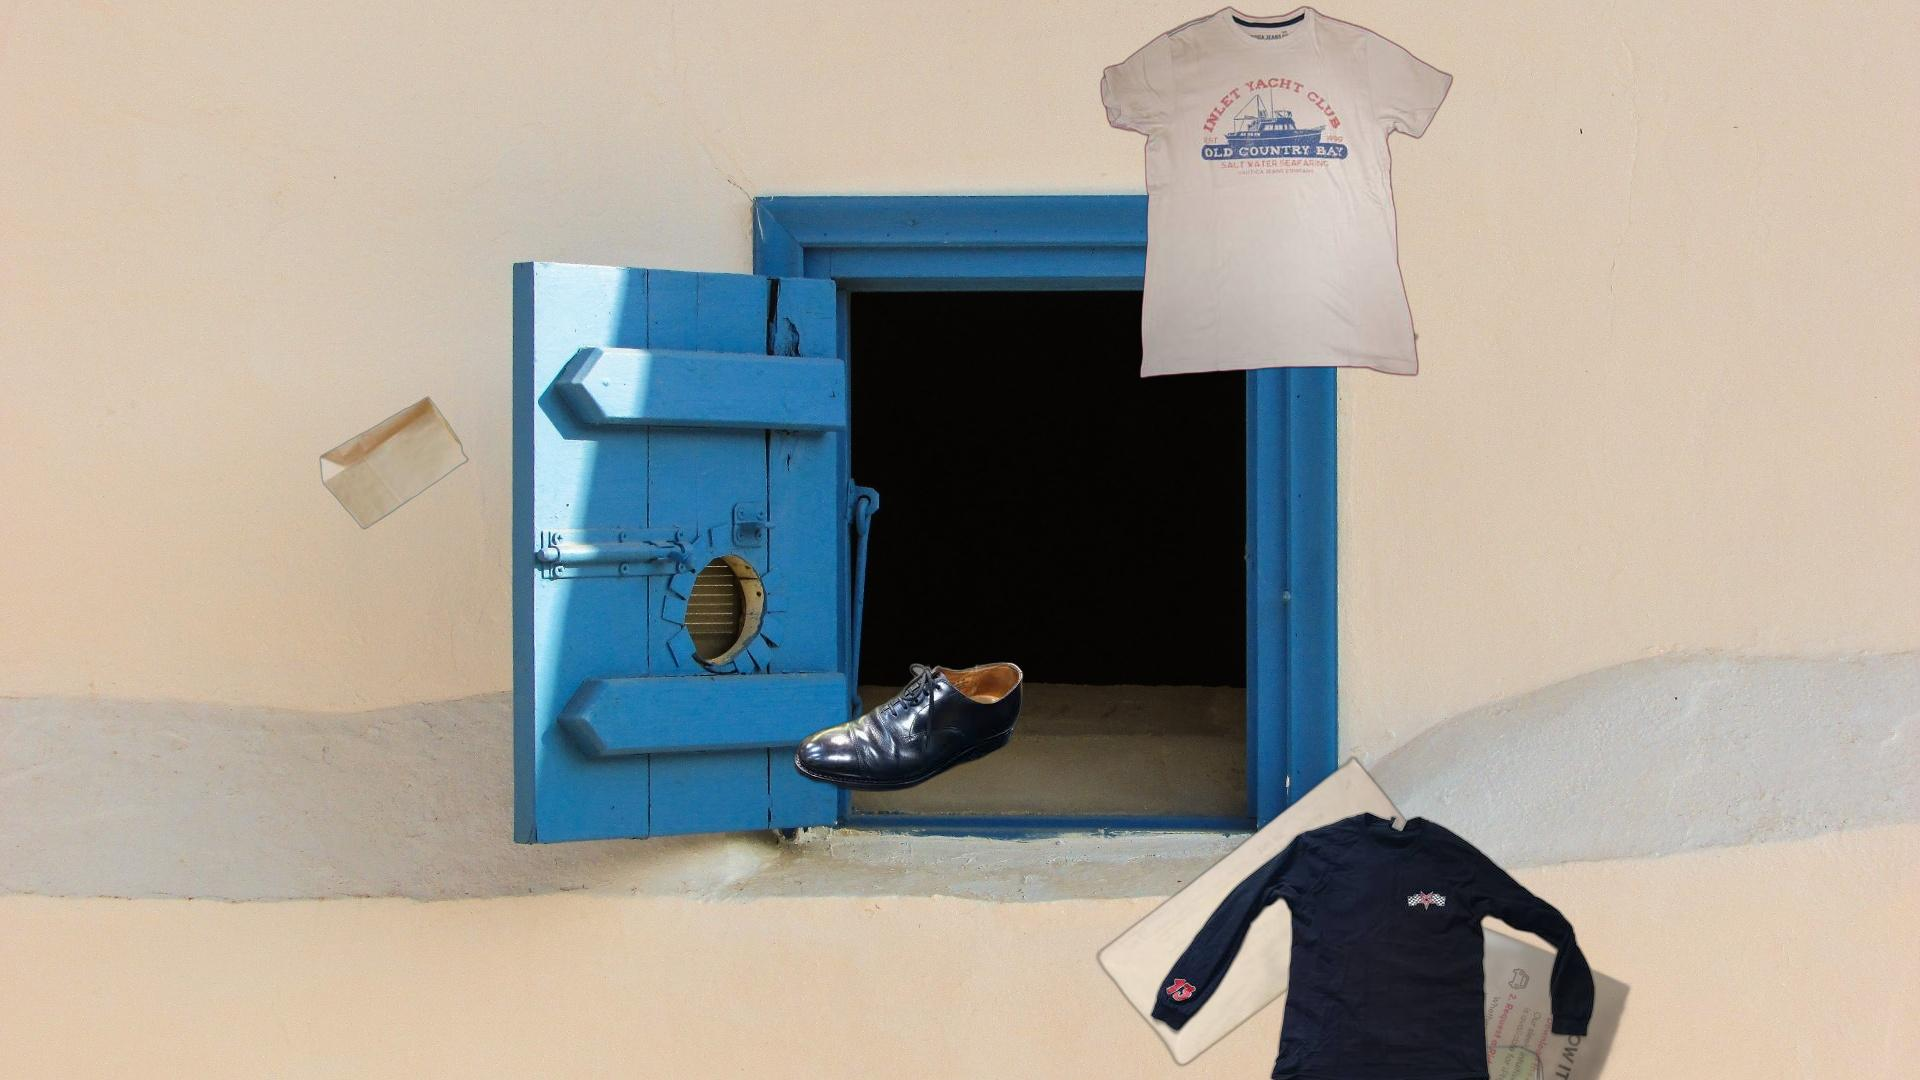clothes: (1098, 1, 1456, 382), (1146, 808, 1600, 1080)
metal-cans: (1389, 1039, 1548, 1080)
paper: (1092, 754, 1447, 1069), (1273, 886, 1635, 1080)
paper-bag: (316, 394, 471, 531)
shoes: (791, 659, 1026, 807)
